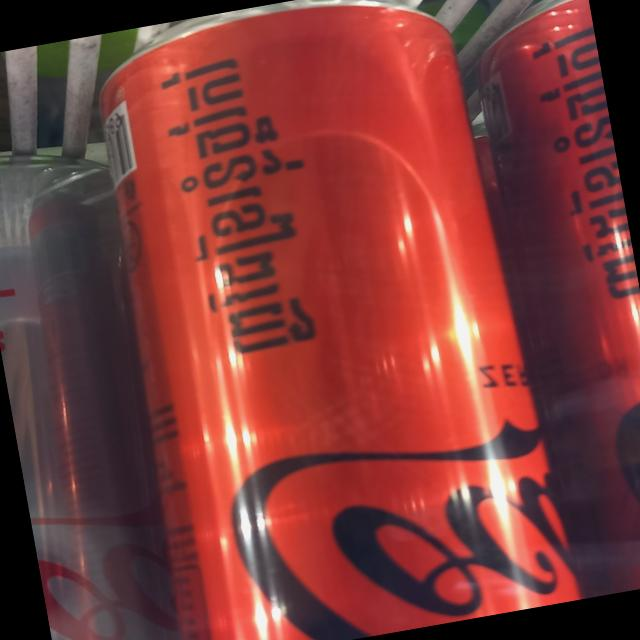Yolov11kh: (139, 37, 350, 376)
